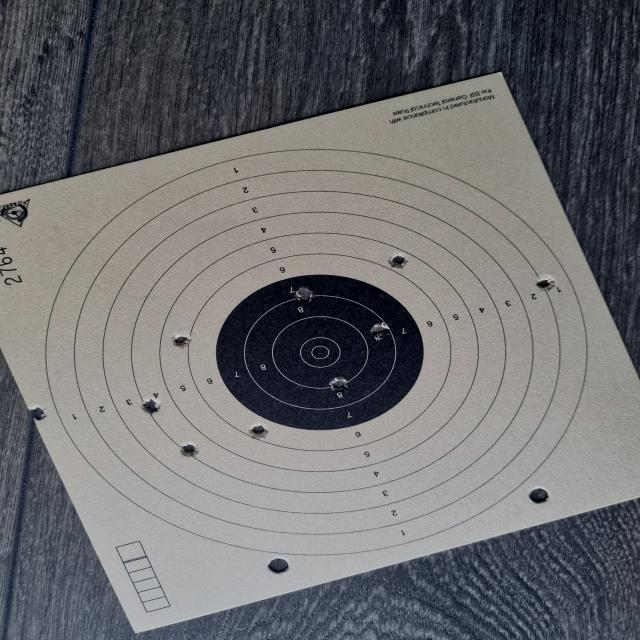0: (30, 406, 47, 420)
2: (534, 274, 560, 293)
4: (142, 399, 164, 416), (178, 443, 200, 458)
5: (388, 250, 411, 270)
6: (248, 422, 270, 442), (172, 333, 192, 348)
7: (295, 287, 314, 296)
8: (326, 378, 354, 392), (370, 322, 392, 338), (294, 296, 314, 304)
black_contour: (44, 148, 587, 556), (217, 275, 424, 430)
